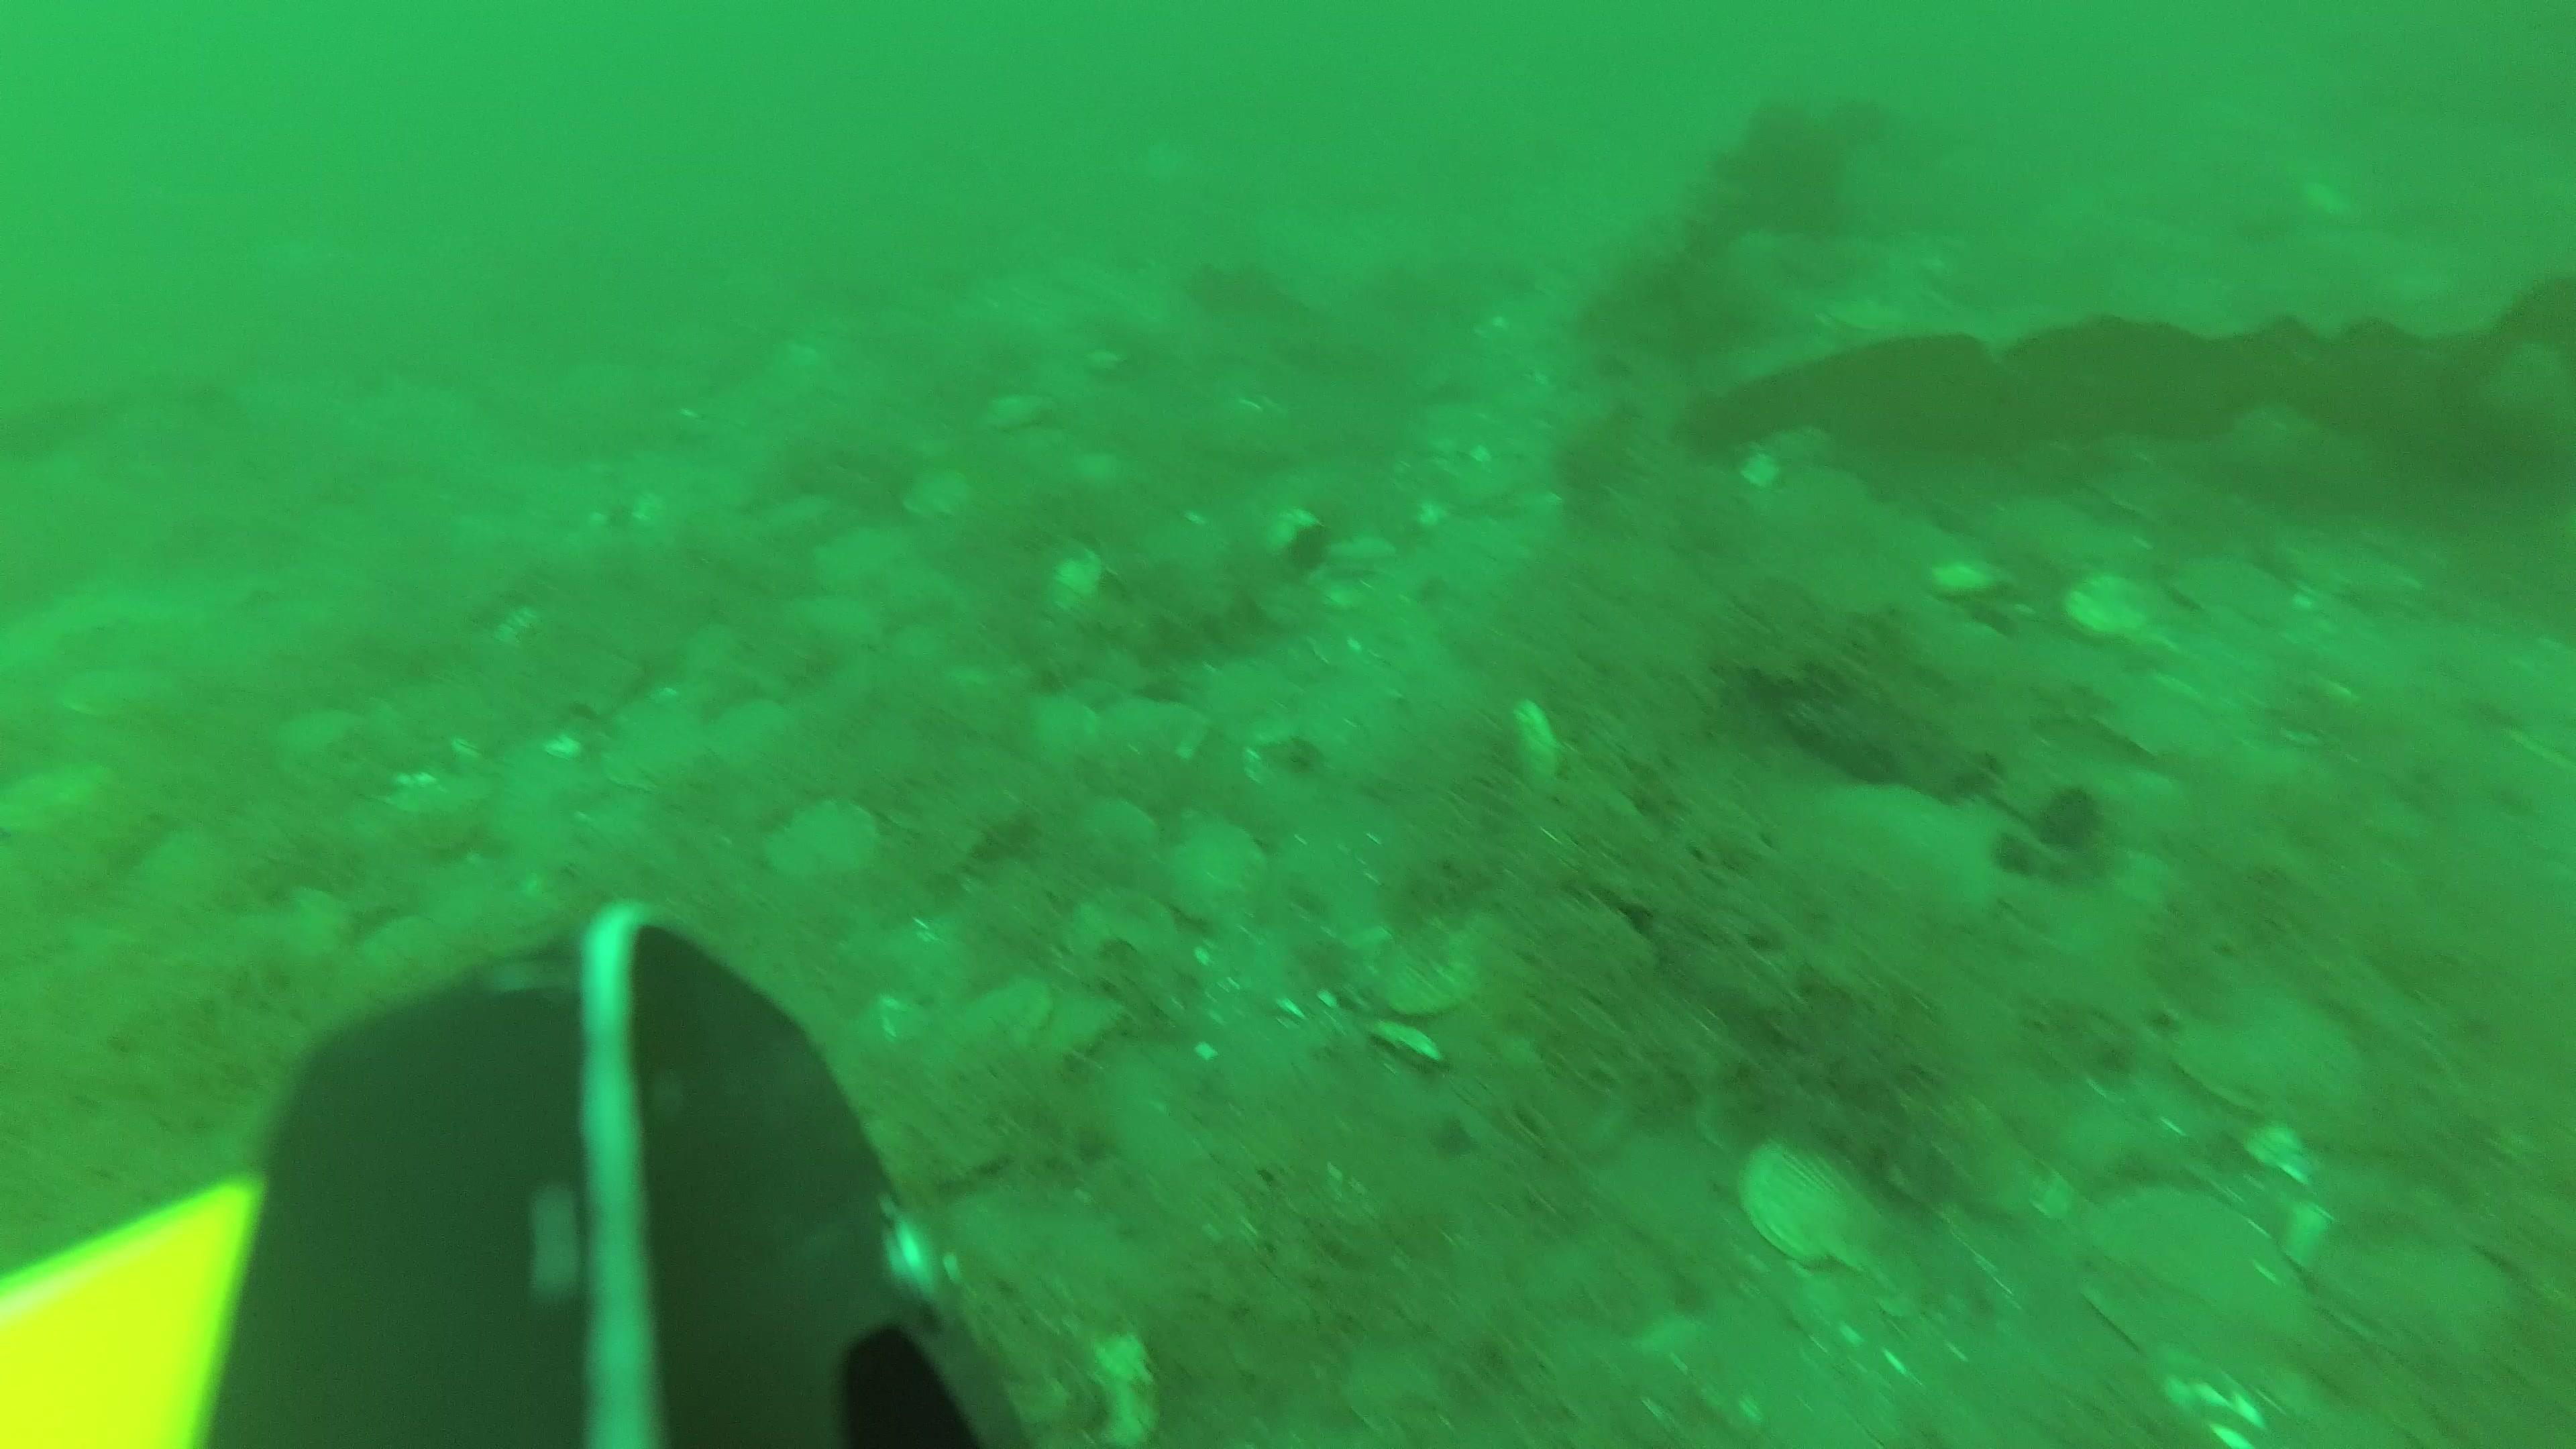echinus: (2035, 782, 2107, 851)
scallop: (2084, 1191, 2321, 1387), (1819, 784, 2005, 948), (2173, 989, 2373, 1129), (2327, 1212, 2512, 1361), (1744, 1136, 1898, 1276), (2097, 672, 2210, 766), (1375, 931, 1491, 1021), (931, 975, 1047, 1063), (4, 761, 122, 847), (1161, 816, 1260, 918), (1069, 885, 1168, 985), (2166, 552, 2293, 630), (1017, 996, 1132, 1081), (761, 794, 872, 878), (614, 711, 717, 794), (2061, 570, 2157, 649), (64, 658, 166, 725), (807, 527, 902, 596), (901, 458, 982, 538), (1039, 540, 1109, 617)
